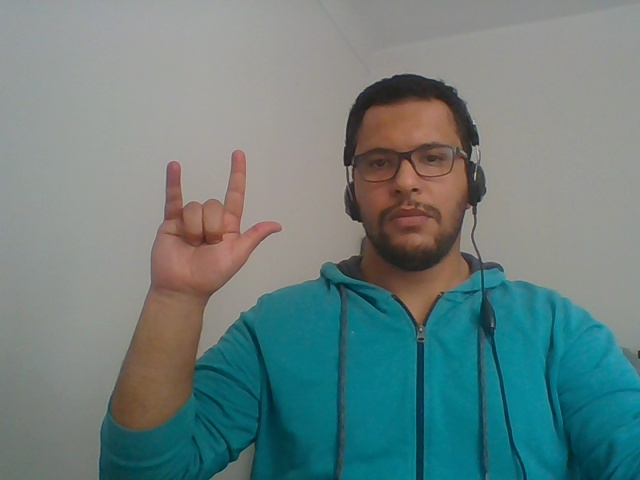iloveyou: (100, 124, 298, 364)
